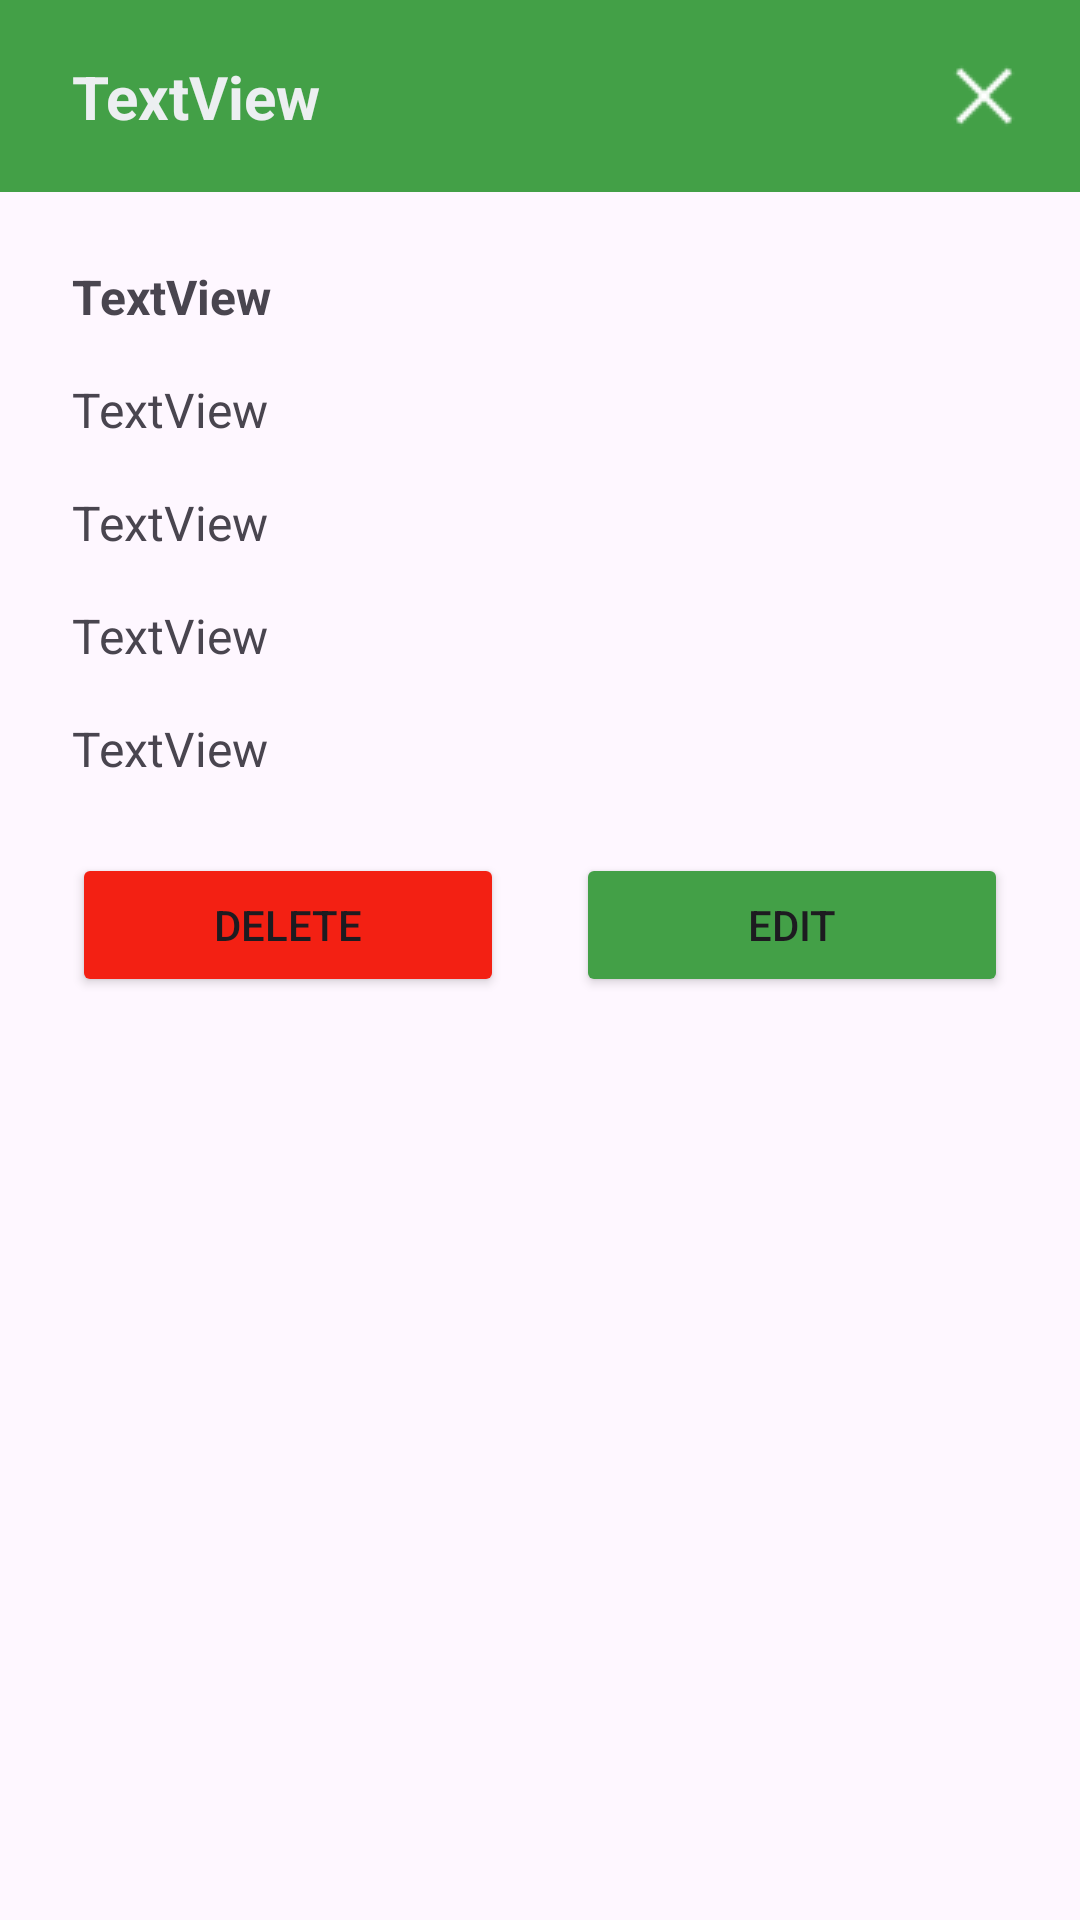

Where to tap for icons on this 1080*1920 app screen, as point (x, y):
Close: point (984, 96)
